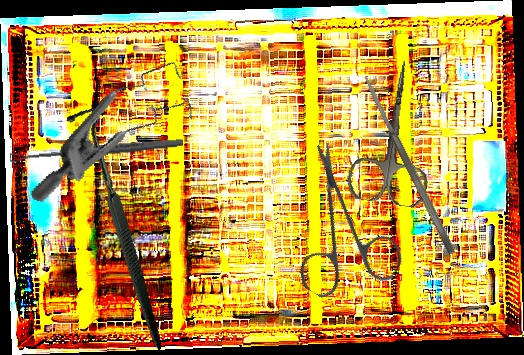Hook Surgical: (26, 103, 204, 351)
Iris Scissors: (250, 139, 435, 324), (344, 54, 446, 210)
Spatula Surgical: (362, 76, 457, 256)
Speculum: (29, 31, 208, 241)
Surgical Spoon: (9, 136, 184, 164)
